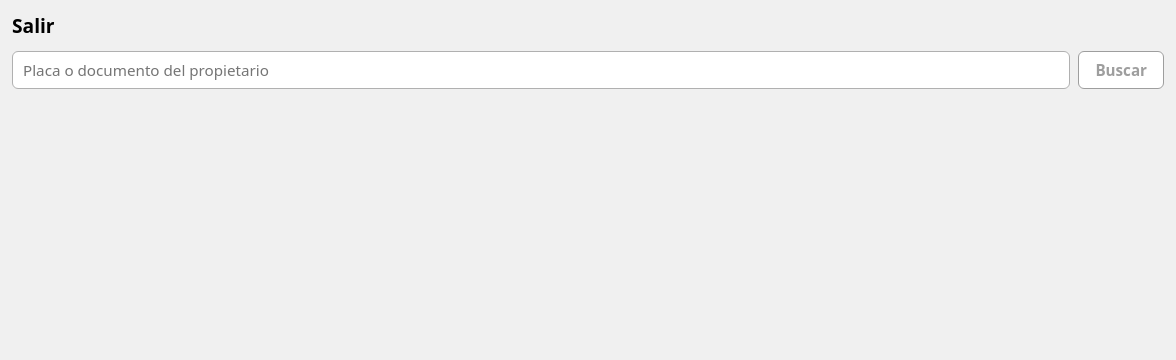
FormularioSalida › debería registrar la salida exitosamente
In the field with placeholder "Placa o documento del propietario": point(541, 70) left=12, top=51, right=1070, bottom=89, type "ABC123"
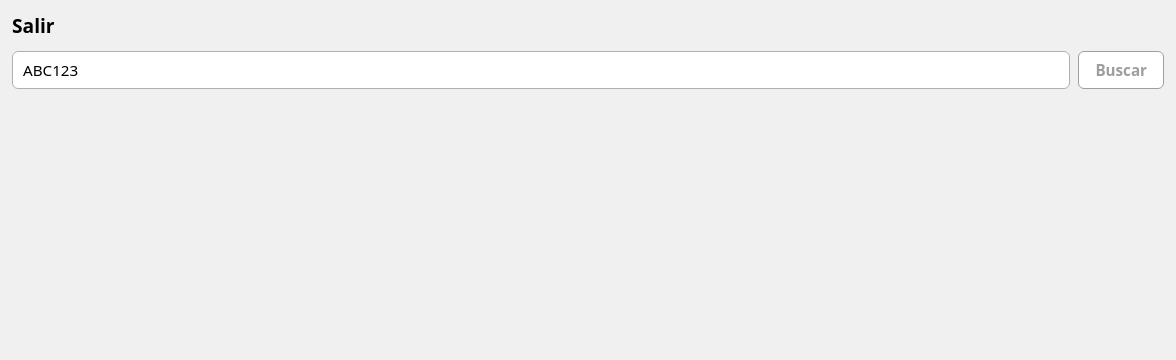
Click the button "Buscar": point(1121, 70) left=1078, top=51, right=1164, bottom=89
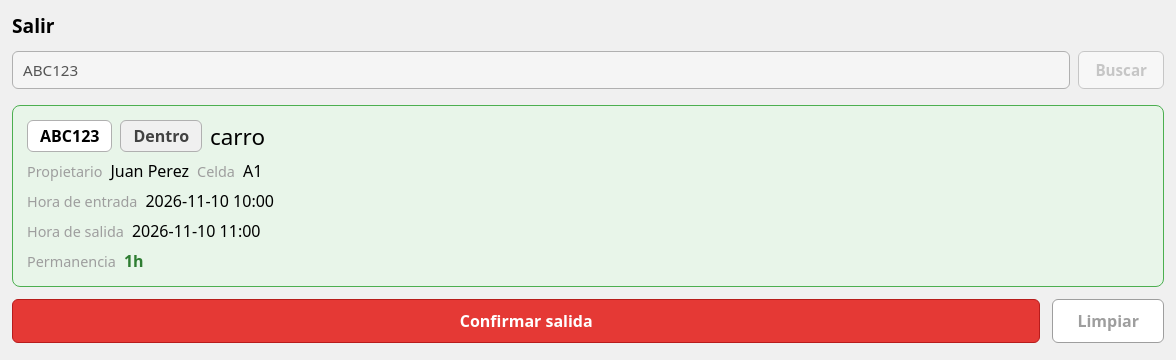
Expected: the button "Confirmar salida" is shown
Registrar salida
Click the button "Confirmar salida": point(526, 321) left=12, top=299, right=1040, bottom=343
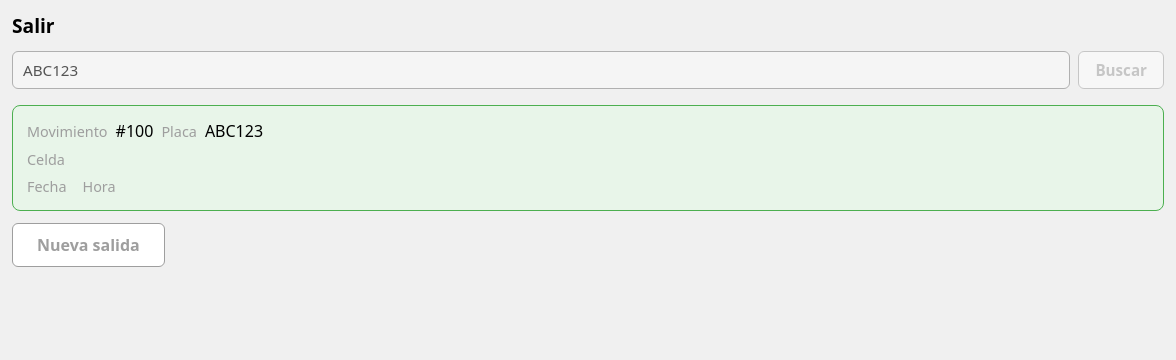
Expected: the button "Nueva salida" is shown, left=12, top=223, right=165, bottom=267
